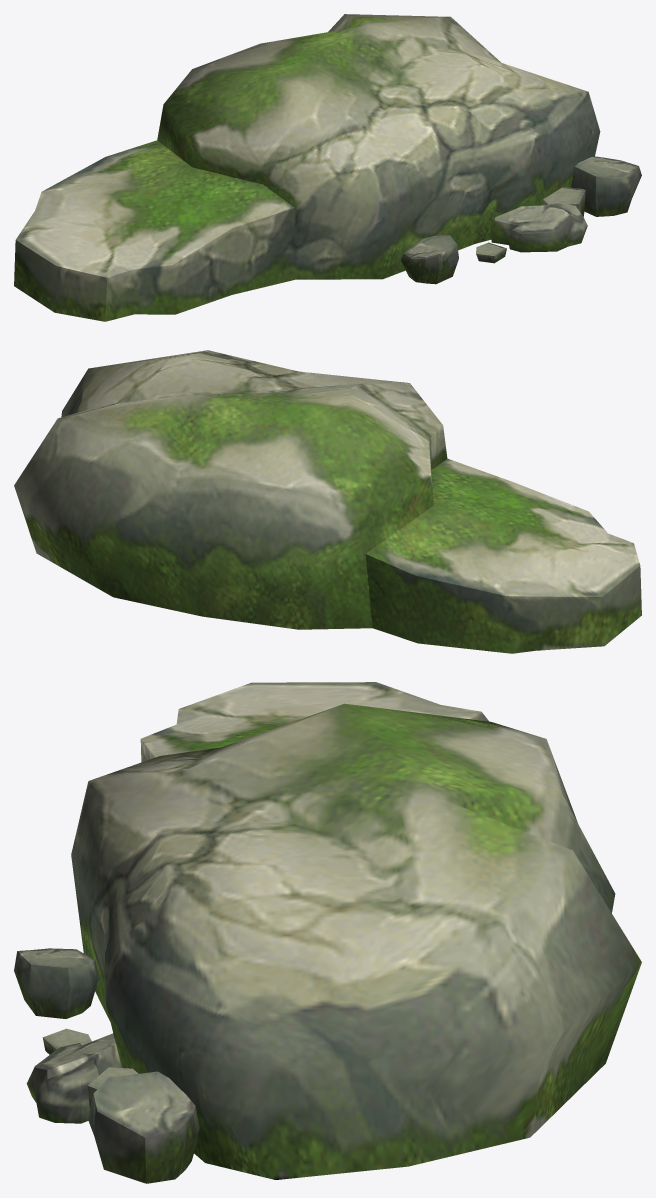
File: 4006_Item_shitou_12.FBX
The picture shows the model from 3 angles, top to bottom: view 1: azimuth 30°, elevation 25°; view 2: azimuth 150°, elevation 25°; view 3: azimuth 270°, elevation 25°; orthographic projection. The views are drawn at different scales.
Visible parts, largest first — view 1: 4006_Item_shitou_12; view 2: 4006_Item_shitou_12; view 3: 4006_Item_shitou_12.
Boxes of the visible parts, bbox=[...] form: 4006_Item_shitou_12: bbox=[14, 14, 641, 321]; 4006_Item_shitou_12: bbox=[14, 350, 641, 653]; 4006_Item_shitou_12: bbox=[14, 682, 641, 1183].
Size of the model in its own units: 307 by 82.66 by 183.
